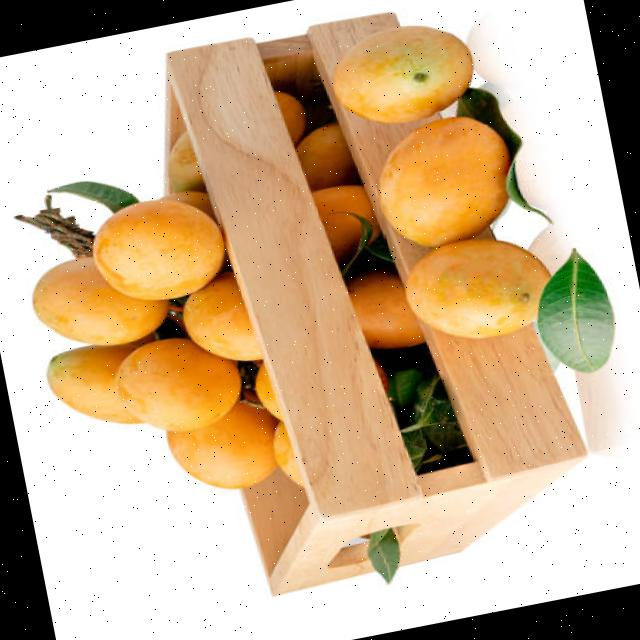mango: (380, 116, 509, 246), (406, 238, 549, 338), (92, 198, 224, 299), (333, 26, 472, 121), (32, 256, 167, 344), (115, 337, 241, 431), (167, 402, 277, 488), (46, 344, 141, 423), (187, 271, 263, 360), (346, 269, 426, 347), (313, 184, 380, 261), (297, 123, 356, 189)
